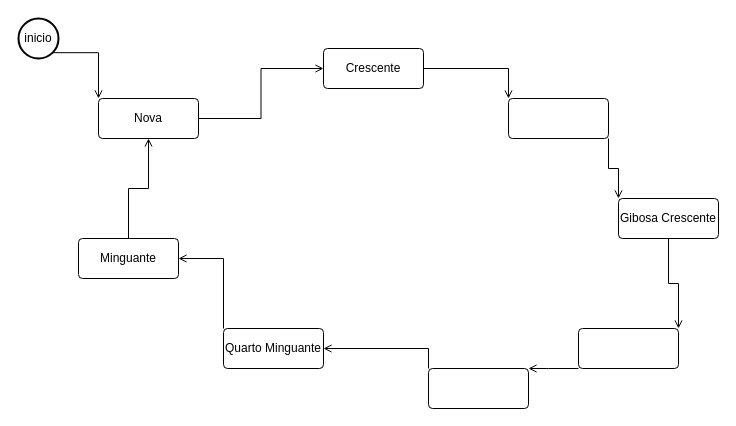
This 736x426 diagram has some shape labels left out. The shapes that lost their labels are listed below. From the top down, each one's centre as x and y in pixels, then its label:
At (558,118): "Quarto Crescente".
At (628,348): "Cheia".
At (478,388): "Gibosa Minguante".
